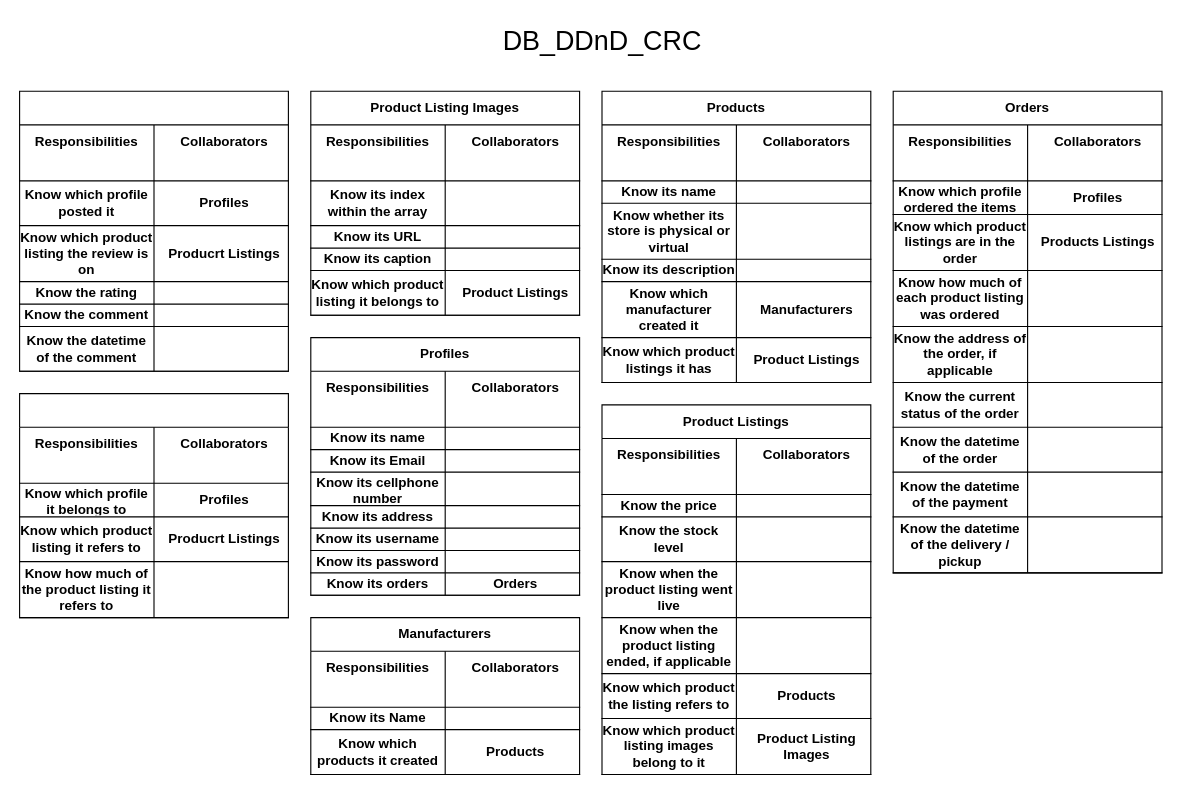
The diagram is 1182 pixels wide and 794 high, and some of its shapes have lost their labels. The box of each missing label's shape, as (x1, y1, x2, y2) in pixels:
Cart Items: (18, 393, 288, 618)
Reviews: (18, 90, 288, 371)
